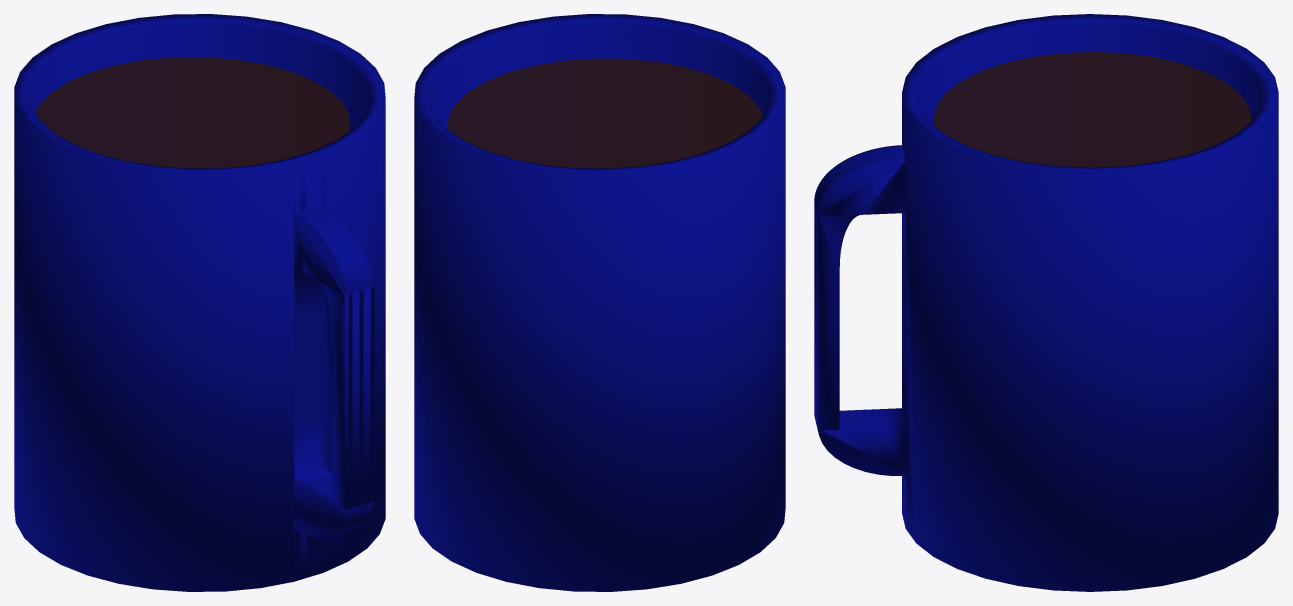
Rendered from coffee.fbx.
3 renders of one model, left to right at view 1: azimuth 30°, elevation 25°; view 2: azimuth 150°, elevation 25°; view 3: azimuth 270°, elevation 25°, orthographic.
Visible parts, largest first — view 1: Cylinder, Circle; view 2: Cylinder, Circle; view 3: Cylinder, Circle.
Part boxes in pixels (x1,y1,x2,y2): Cylinder: (14,14,385,591); Circle: (36,57,350,168); Cylinder: (414,14,785,591); Circle: (447,58,762,168); Cylinder: (814,14,1278,591); Circle: (933,52,1251,167).
Bounding box in the file's own units: 0.4 × 0.5 × 0.5.
